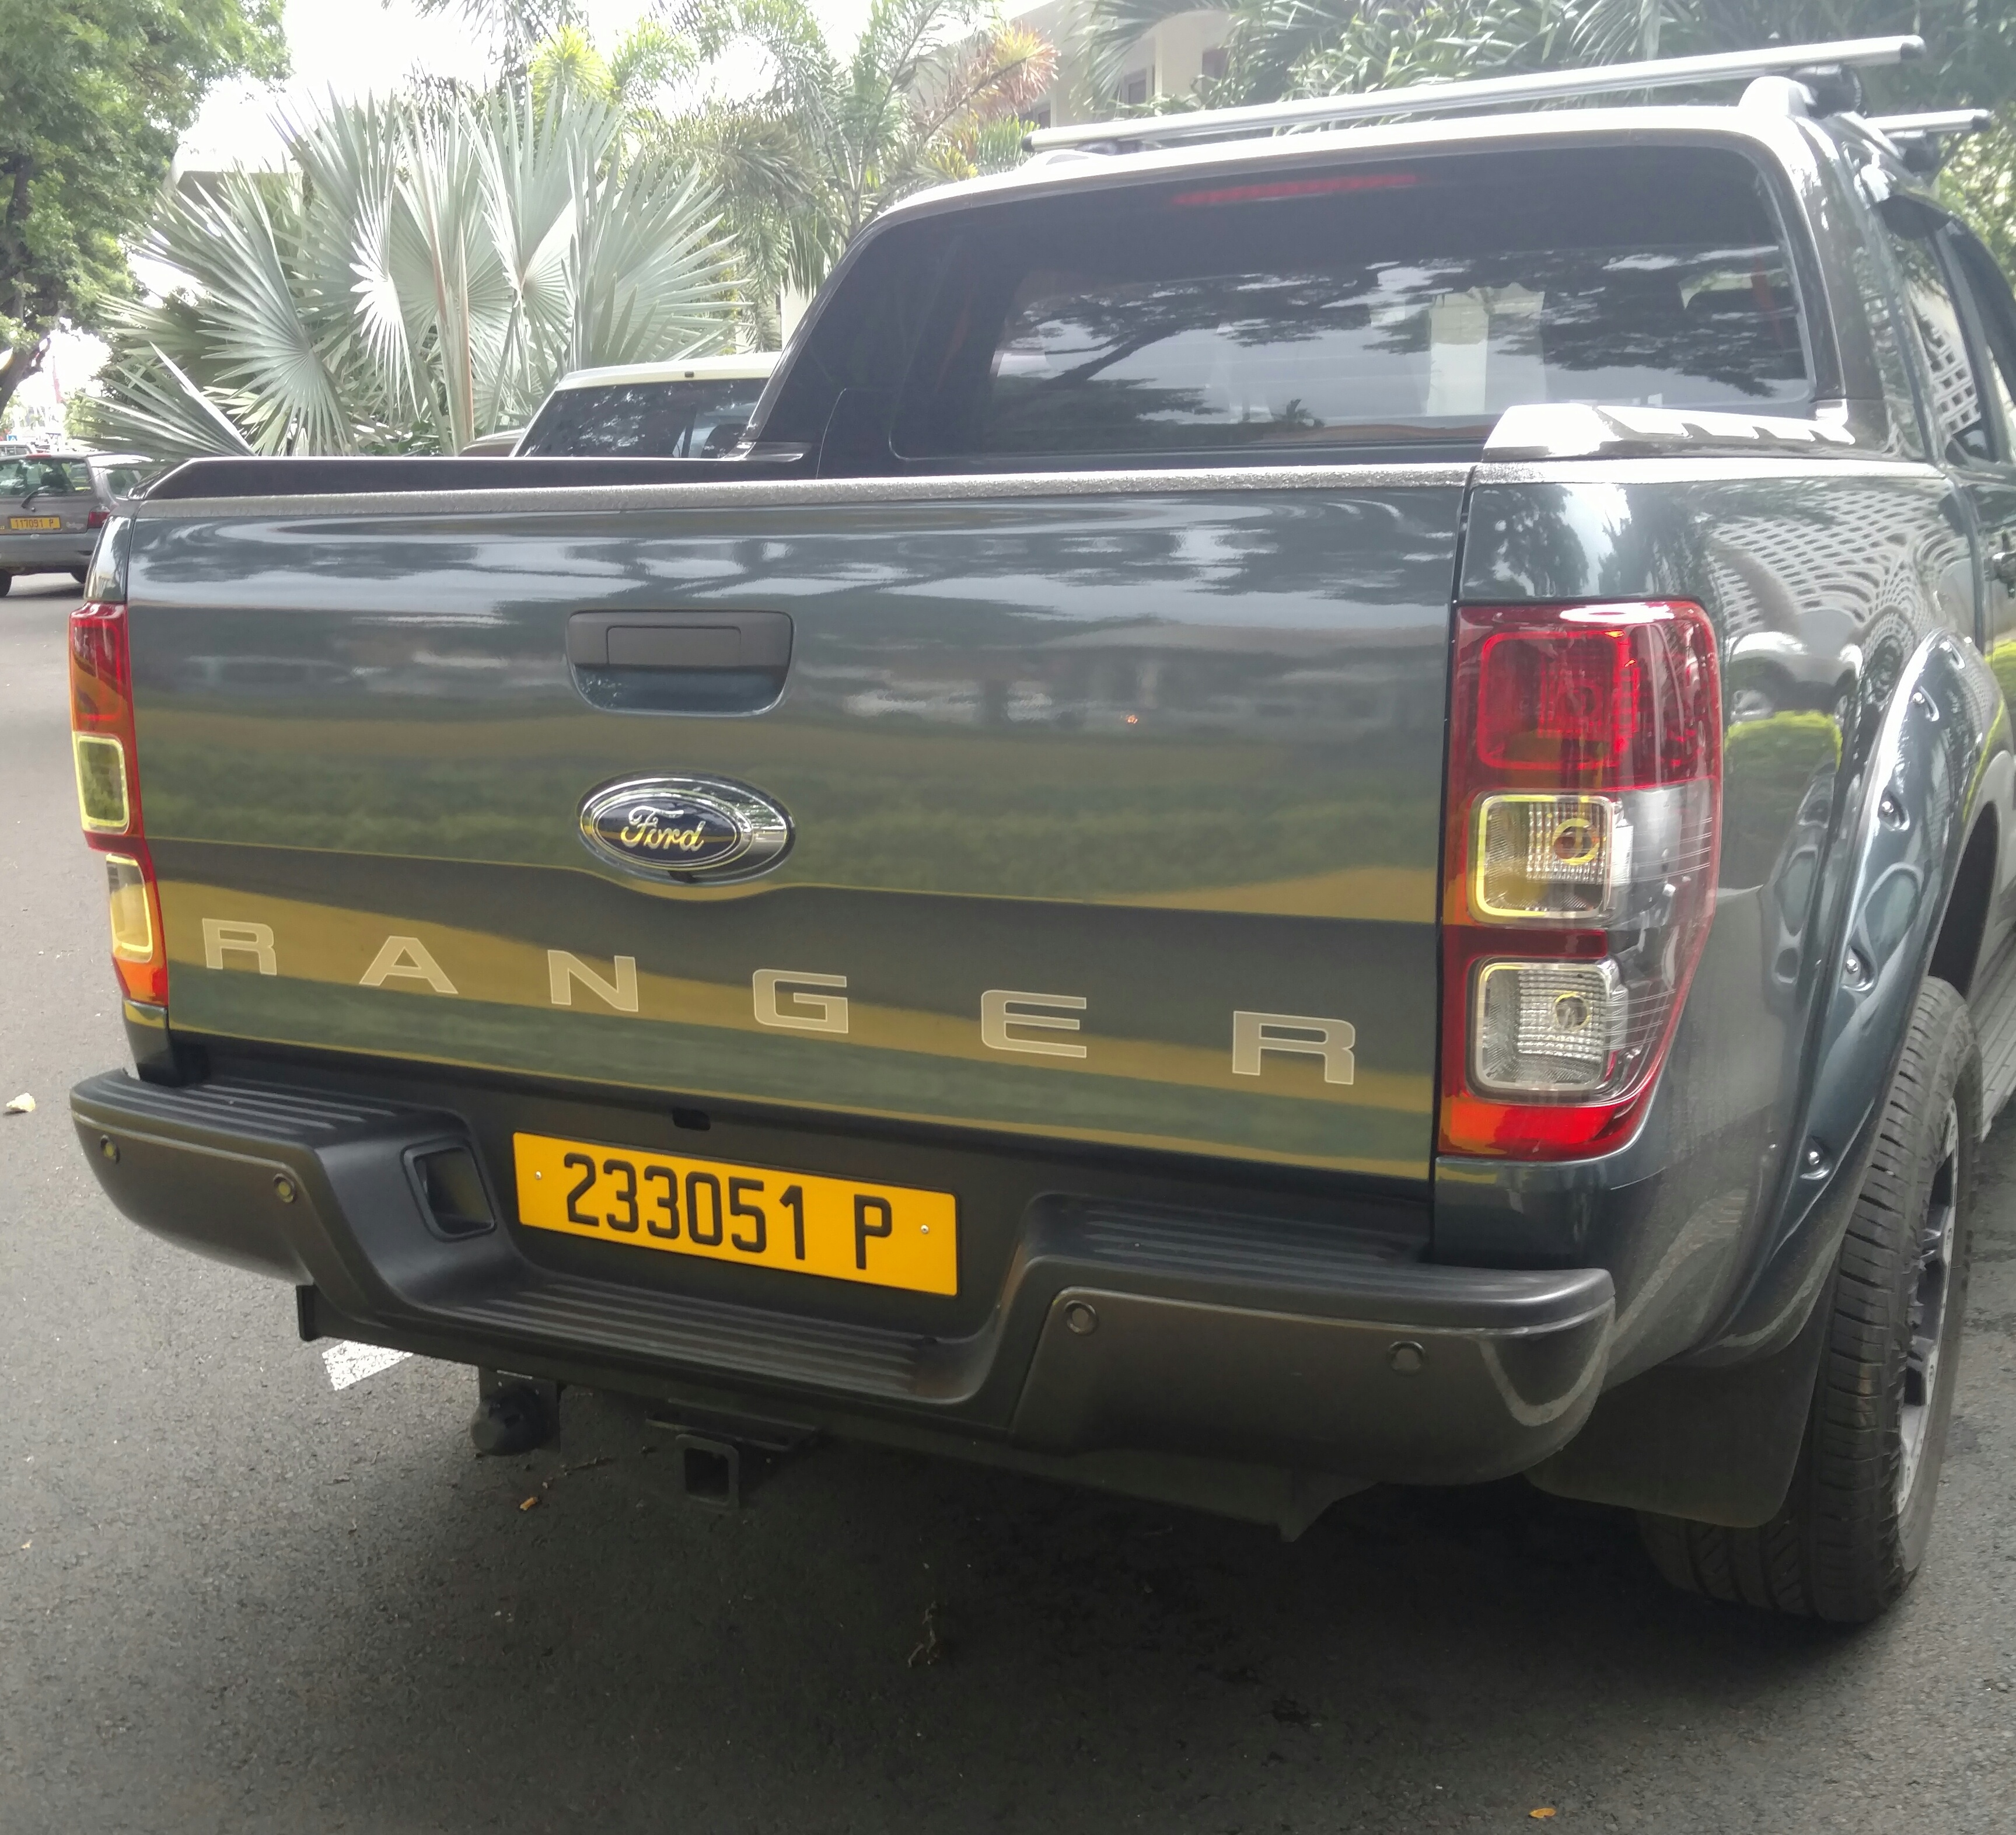license plate: (498, 1119, 966, 1305)
